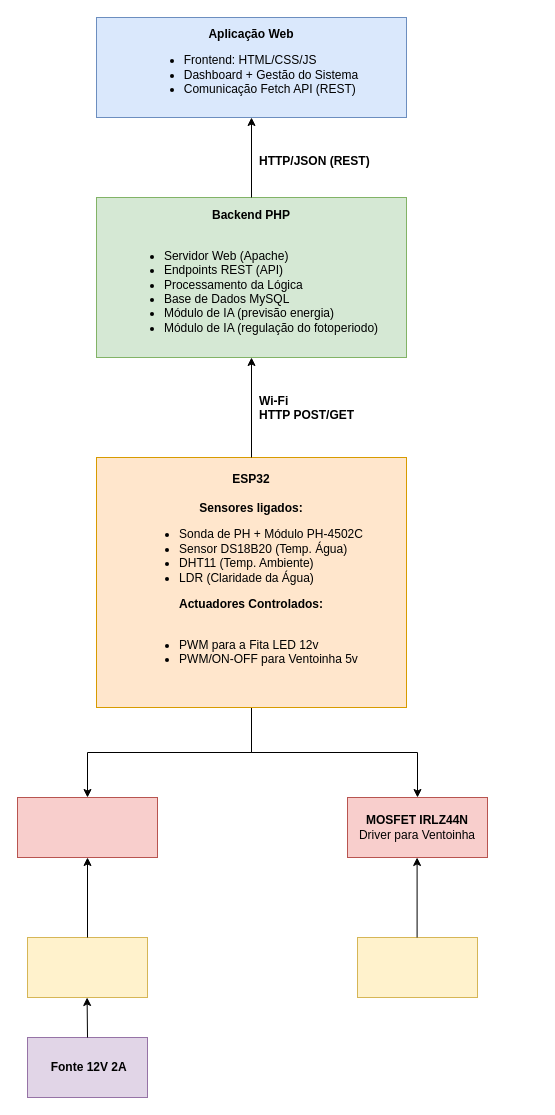
This 555x1115 diagram has some shape labels left out. The shapes that lost their labels are listed below. From the top down, each one's box as (x1, y1, x2, y2) in pixels, then its label:
(16, 796, 158, 858): MOSFET IRLZ44N Driver para LED
(26, 936, 148, 998): FITA LED 12V Iluminação PWM
(356, 936, 478, 998): Ventoinha 5V Arrefecimento Automático
